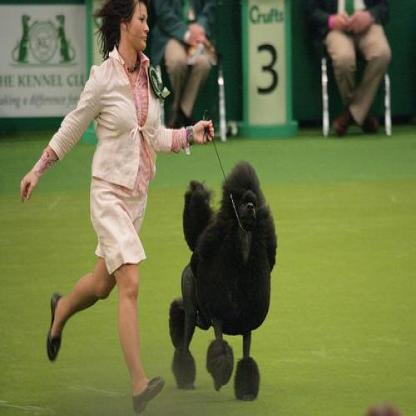standard_poodle: (166, 156, 277, 402)
